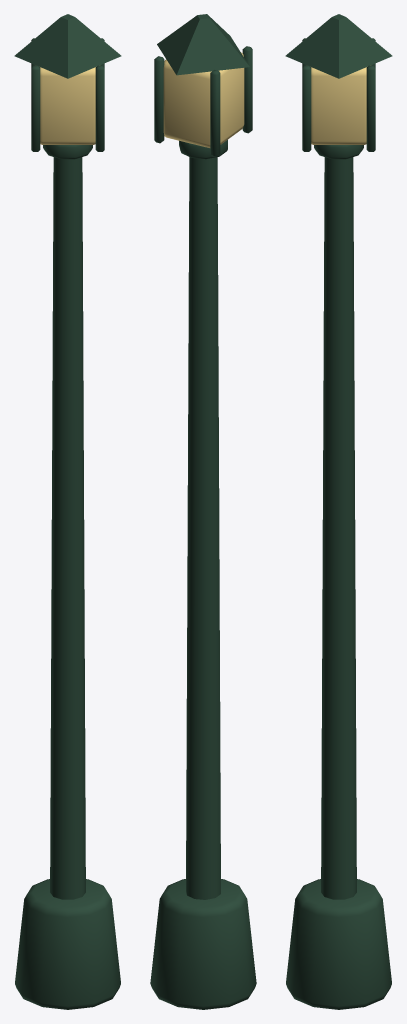
Rendered from lamp.glb.
3 renders of one model, left to right at view 1: azimuth 90°, elevation 25°; view 2: azimuth 150°, elevation 25°; view 3: azimuth 270°, elevation 25°, orthographic.
Parts seen in each view (by area): view 1: lamp; view 2: lamp; view 3: lamp.
Boxes of the visible parts, <box> form: lamp: <box>14,14,121,1009</box>; lamp: <box>150,14,256,1009</box>; lamp: <box>285,14,392,1009</box>.
Size of the model in its own units: 0.3 by 2.99 by 0.3.
Materials: 1 (1 with a texture image).
